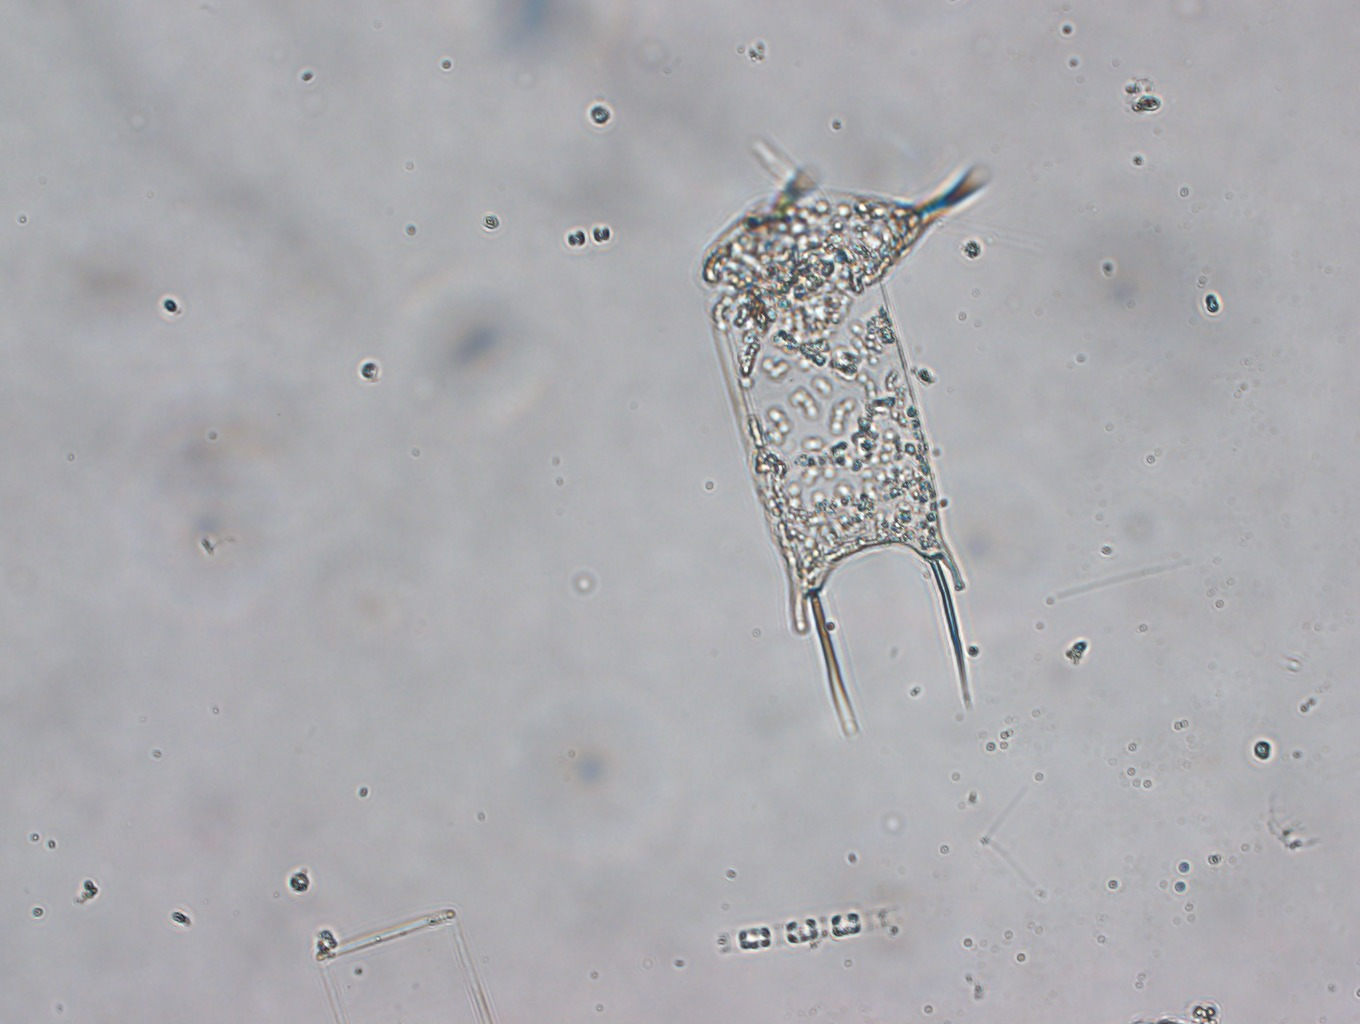biddulphia: (697, 131, 994, 742)
skeletonema: (715, 908, 891, 955)
